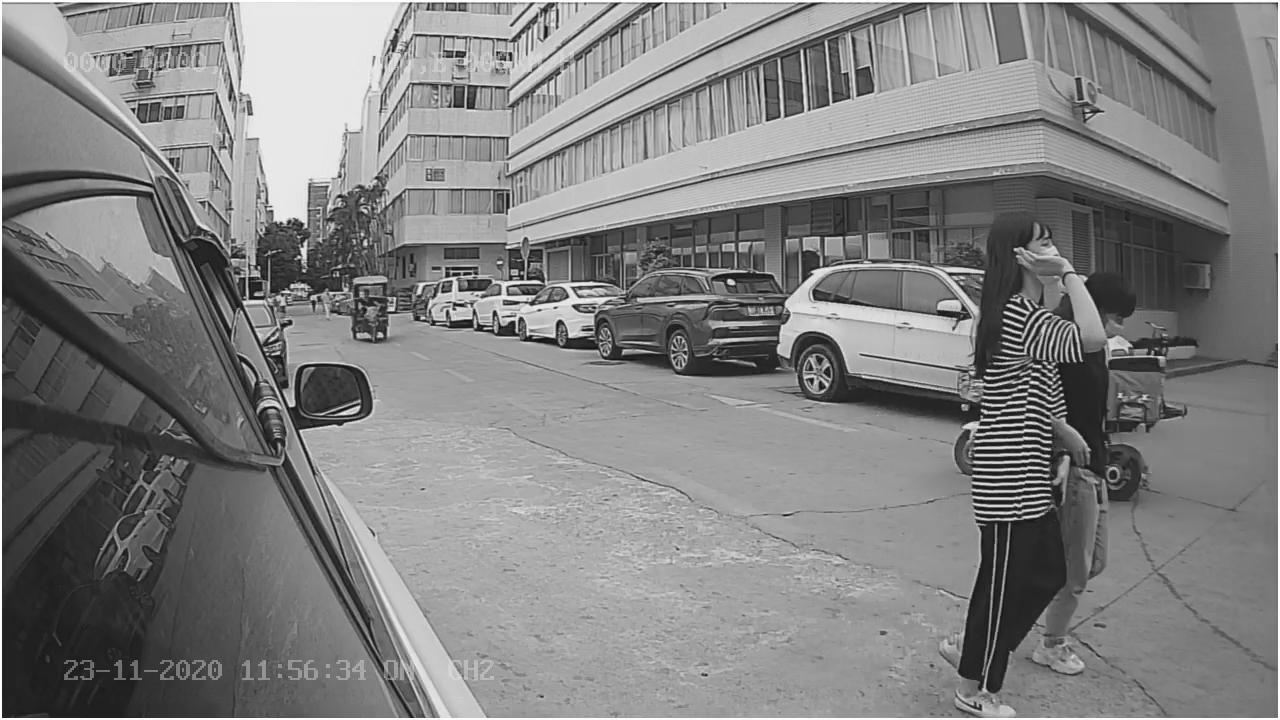person: (946, 212, 1085, 713)
